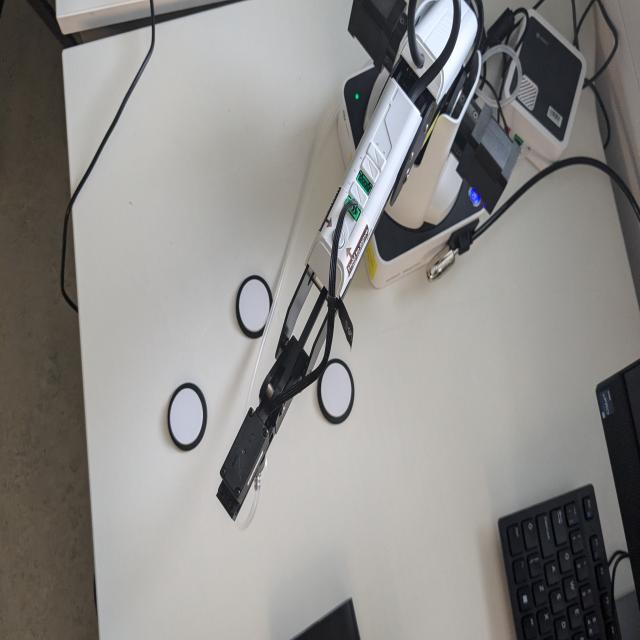Robot-end-effector-HF8z: (215, 402, 272, 528)
